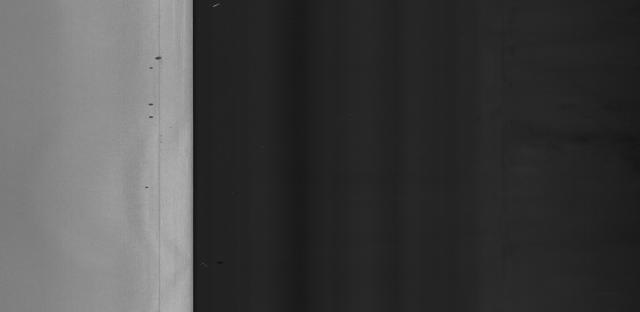oil_spot: (142, 48, 174, 77), (144, 98, 160, 125)
